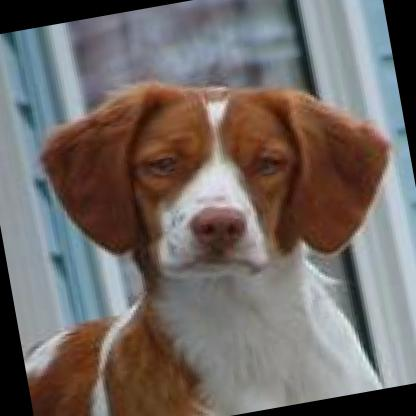Brittany_spaniel: (0, 33, 416, 416)
